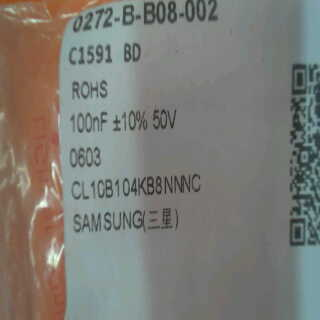100nF: (64, 107, 113, 138)
